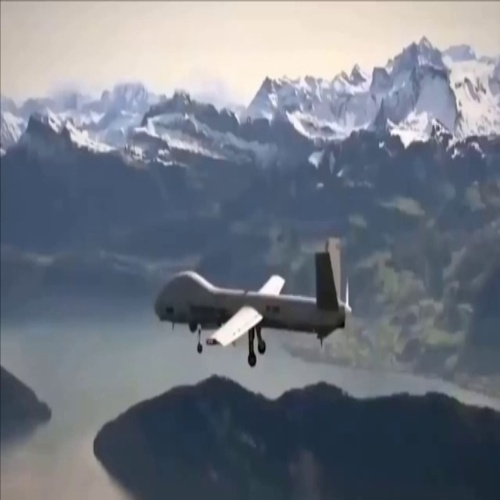uav: (151, 237, 356, 369)
